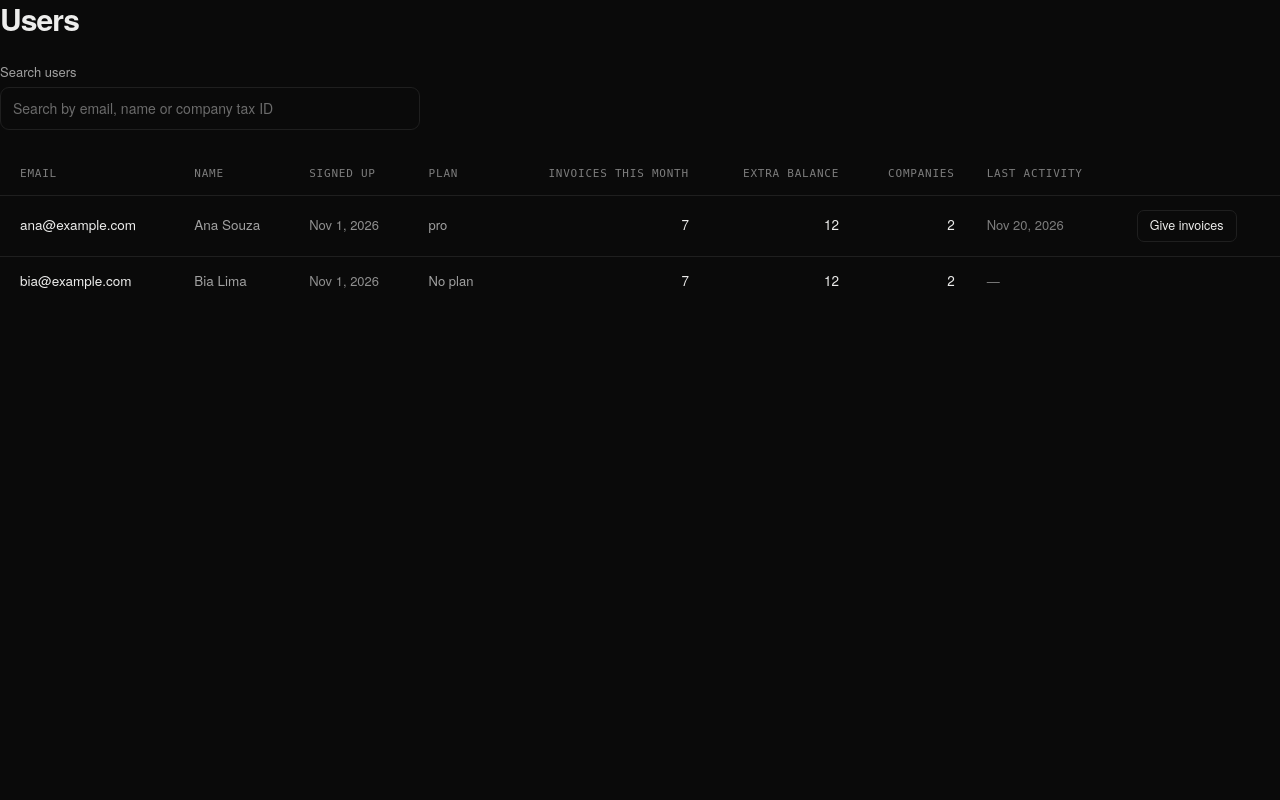
it: Admin users page › opens the grant modal for the row's workspace and reloads the list after a grant
Later steps or results of the test are not shown.
Click the button "Give invoices" at x=1187, y=226, box [1137, 210, 1236, 242]
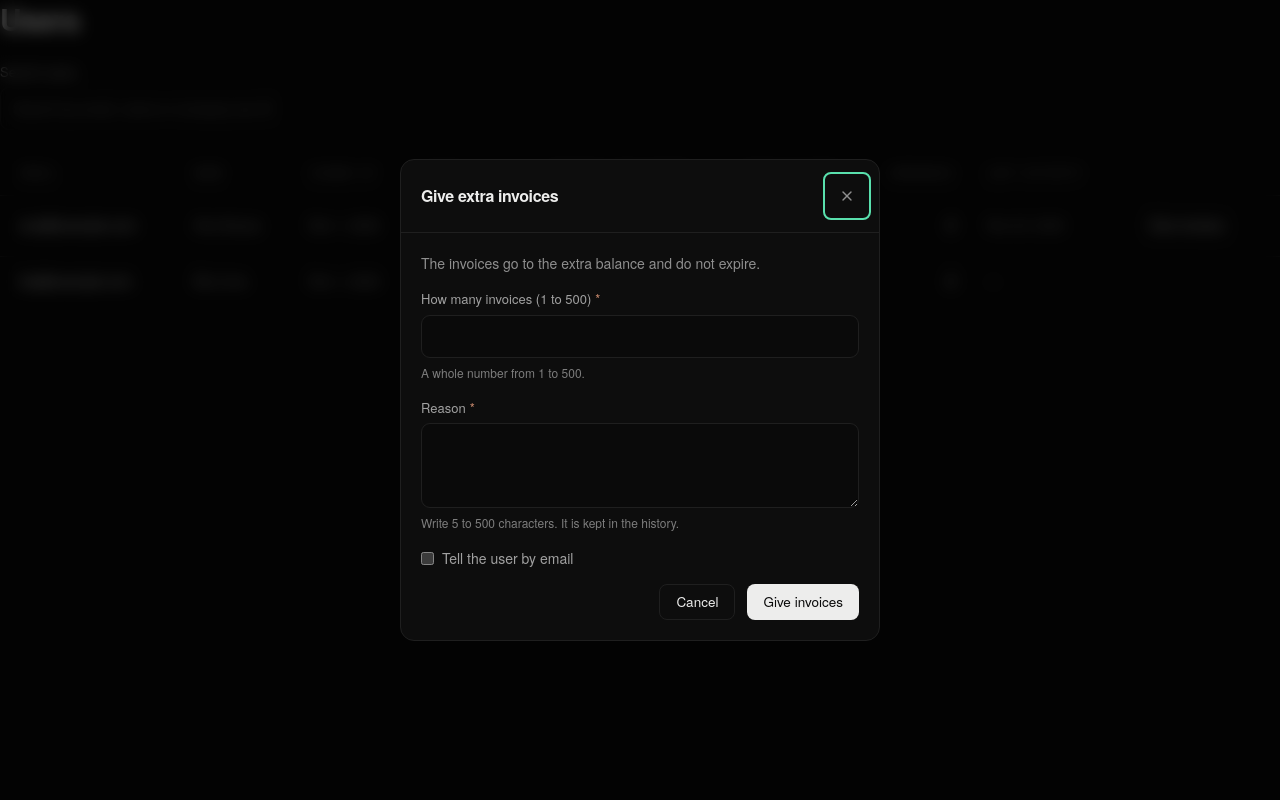
Expected: the text "The invoices go to the extra balance and do not expire." is shown, [421, 253, 760, 273]
